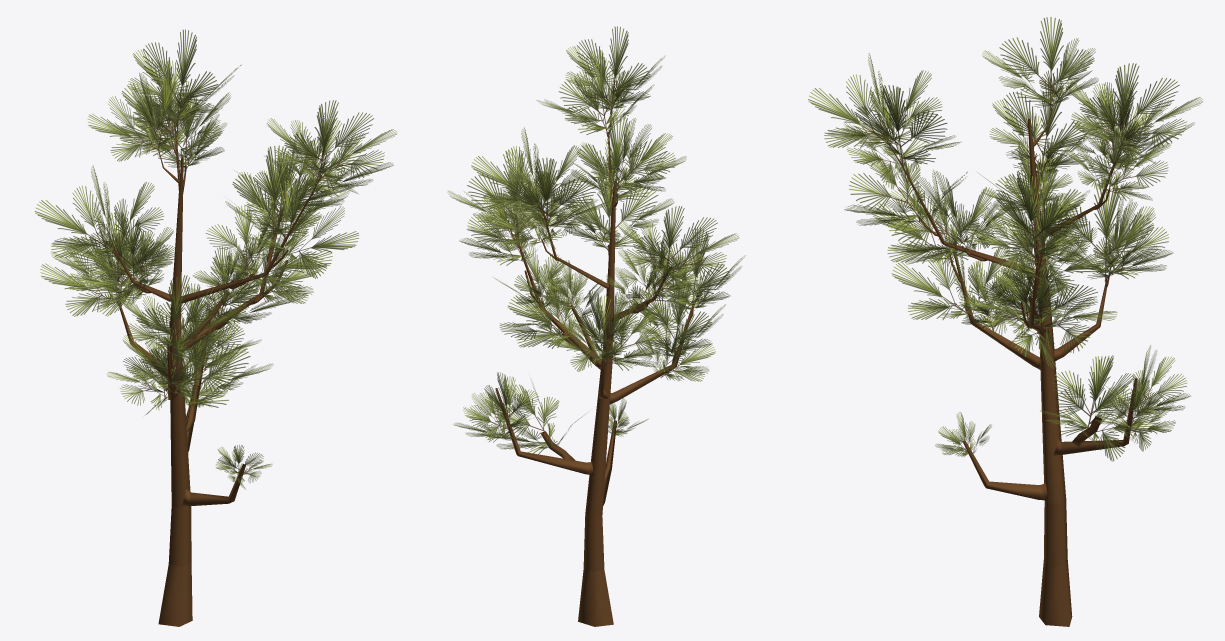
Rendered from Young_Pine_Tree_2.glb.
The picture shows the model from 3 angles, left to right: view 1: azimuth 30°, elevation 25°; view 2: azimuth 150°, elevation 25°; view 3: azimuth 270°, elevation 25°; orthographic projection. The views are drawn at different scales.
Visible parts, largest first — view 1: Young_Pine_Tree_2; view 2: Young_Pine_Tree_2; view 3: Young_Pine_Tree_2.
Boxes of the visible parts, box(x1,y1,x2,y2) form: Young_Pine_Tree_2: box(34, 29, 396, 626); Young_Pine_Tree_2: box(447, 26, 745, 626); Young_Pine_Tree_2: box(808, 17, 1202, 626).
Size of the model in its own units: 0.9773 by 1.63 by 1.04.
2 materials, 2 textured.
